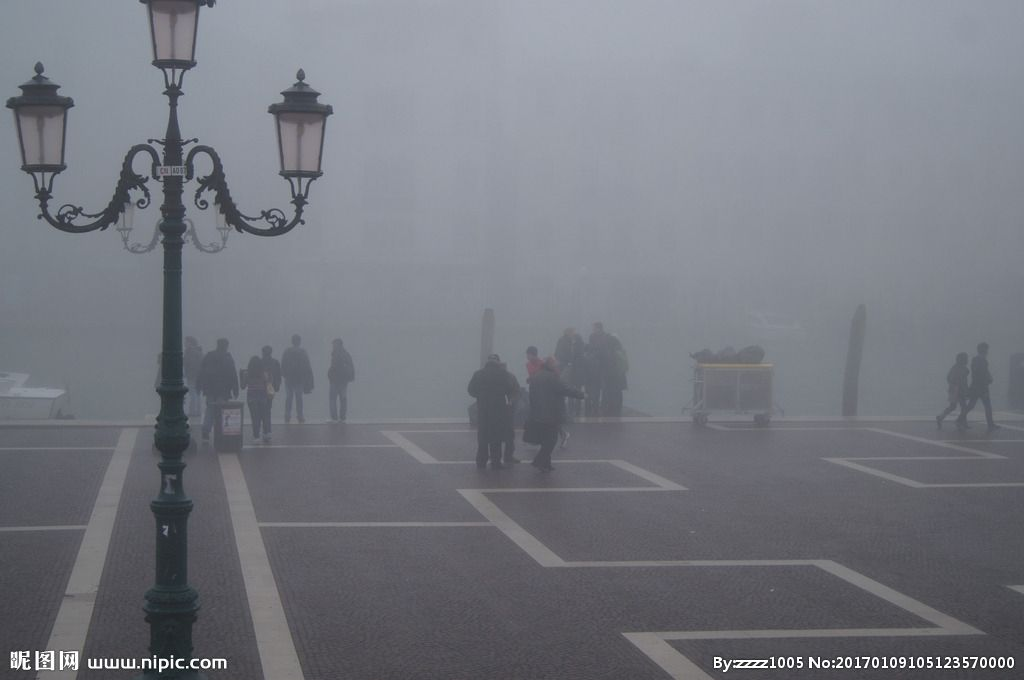person: (522, 360, 582, 472), (468, 354, 512, 468), (198, 333, 235, 442), (956, 343, 1000, 429), (590, 321, 629, 418), (280, 333, 315, 424), (936, 346, 971, 432), (240, 354, 273, 444), (326, 338, 357, 424), (183, 335, 205, 420), (260, 340, 281, 390), (554, 324, 572, 366), (523, 345, 545, 374), (569, 332, 590, 360)
